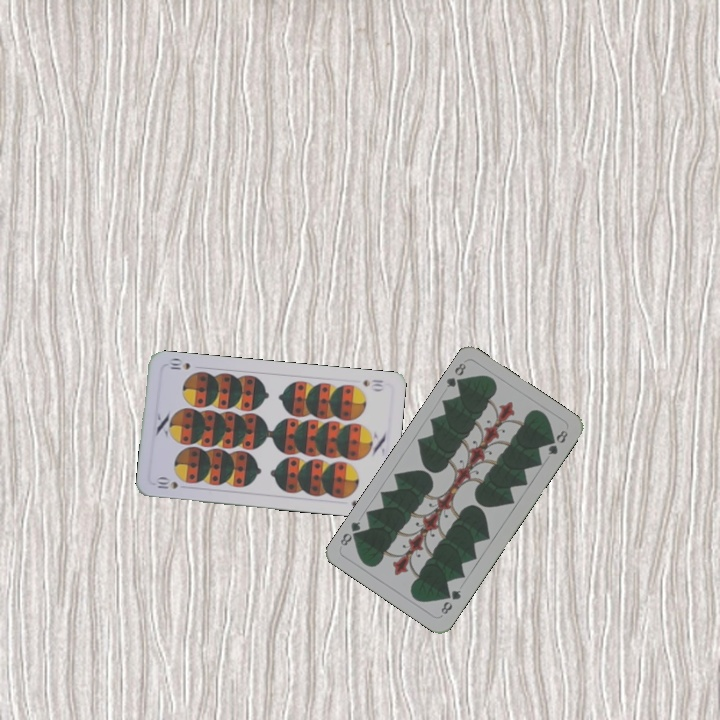G8: (442, 359, 469, 391), (437, 586, 464, 617)
S10: (359, 375, 386, 393), (153, 475, 181, 491)
